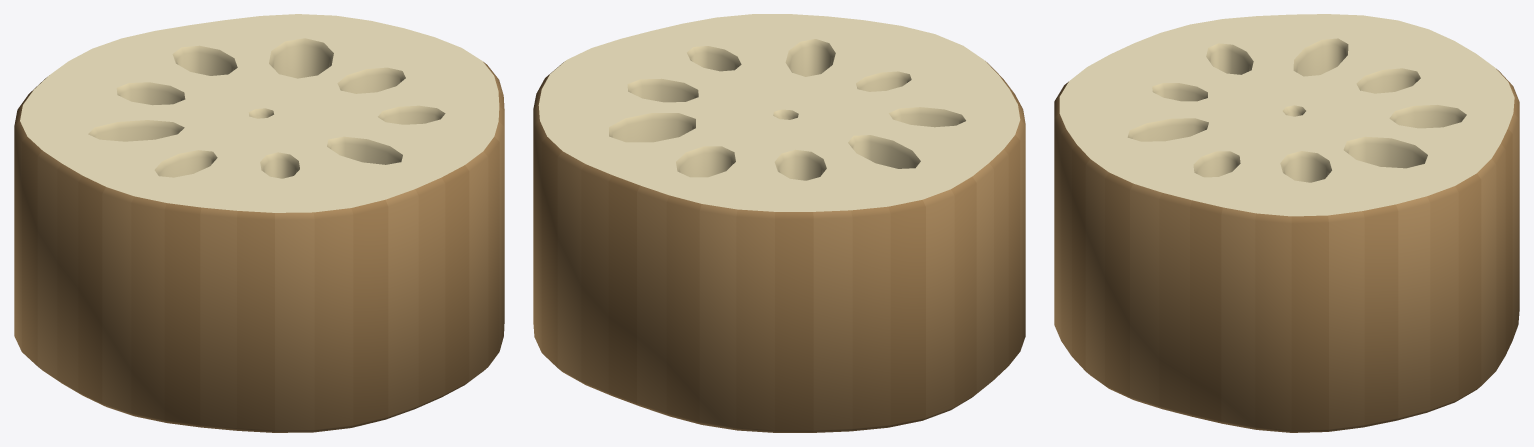
The picture shows the model from 3 angles, left to right: view 1: azimuth 30°, elevation 25°; view 2: azimuth 150°, elevation 25°; view 3: azimuth 270°, elevation 25°; orthographic projection. The views are drawn at different scales.
Parts seen in each view (by area): view 1: NEW316_Lotus_root_LOD2; view 2: NEW316_Lotus_root_LOD2; view 3: NEW316_Lotus_root_LOD2.
Part boxes in pixels (x1=…): NEW316_Lotus_root_LOD2: x1=14, y1=14, x2=504, y2=432; NEW316_Lotus_root_LOD2: x1=533, y1=14, x2=1025, y2=432; NEW316_Lotus_root_LOD2: x1=1054, y1=14, x2=1519, y2=432.
Bounding box in the file's own units: 0.0903 × 0.044 × 0.0857.
